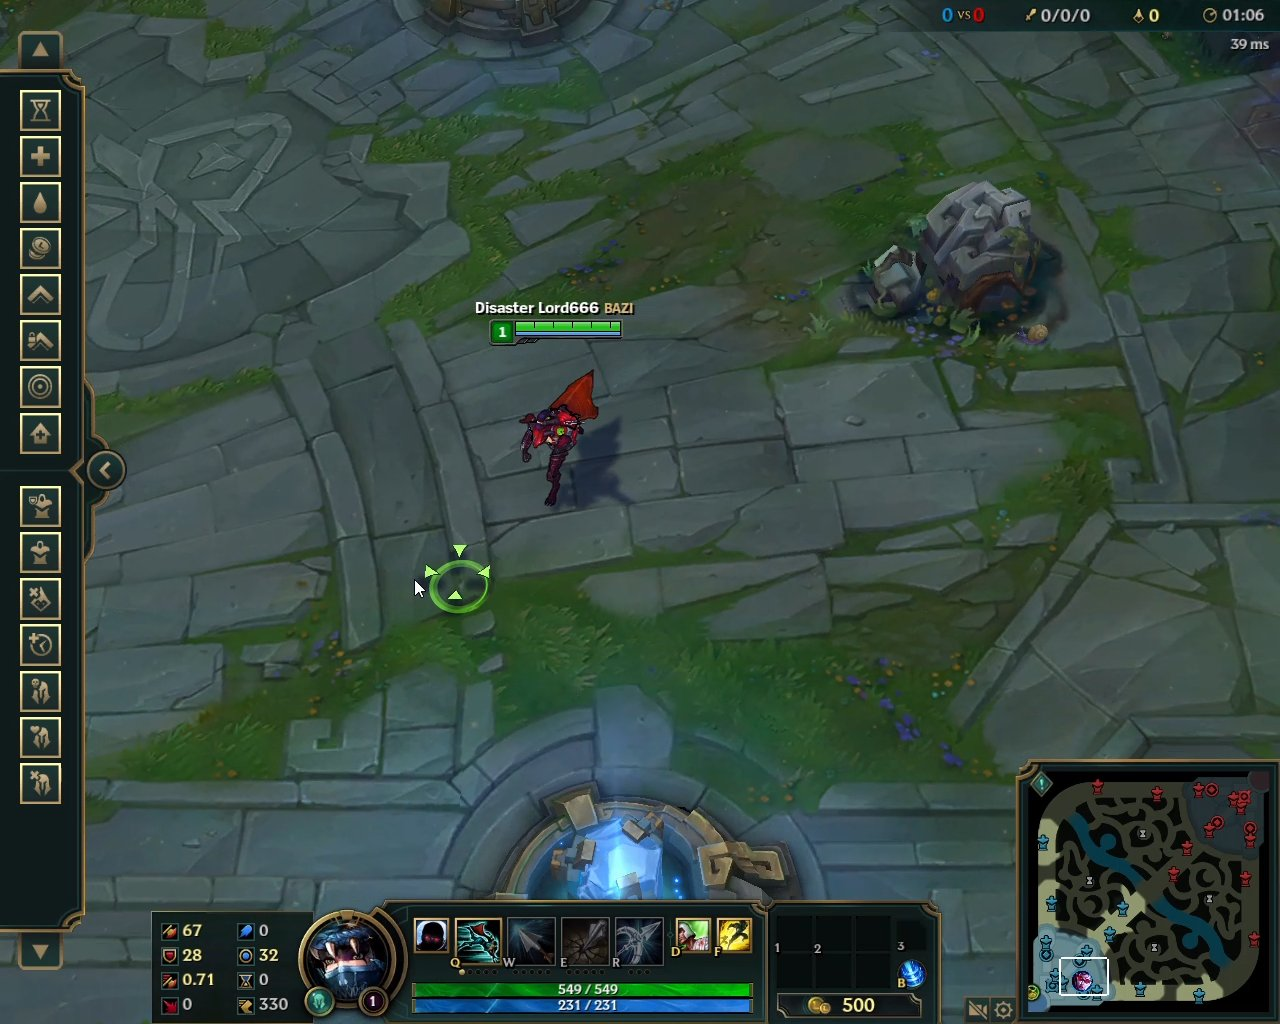Vayne: (509, 367, 606, 511)
